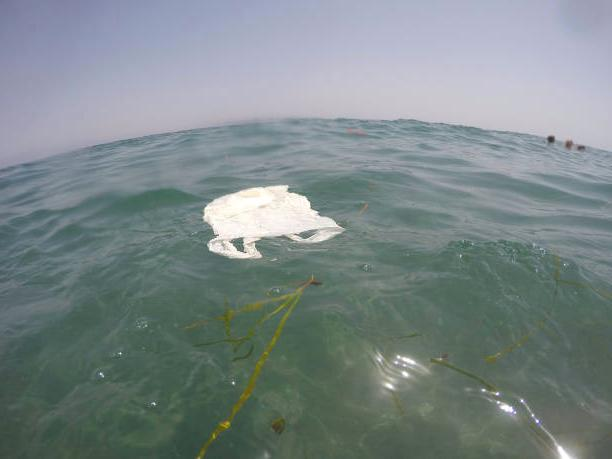Trash: (182, 176, 343, 260)
